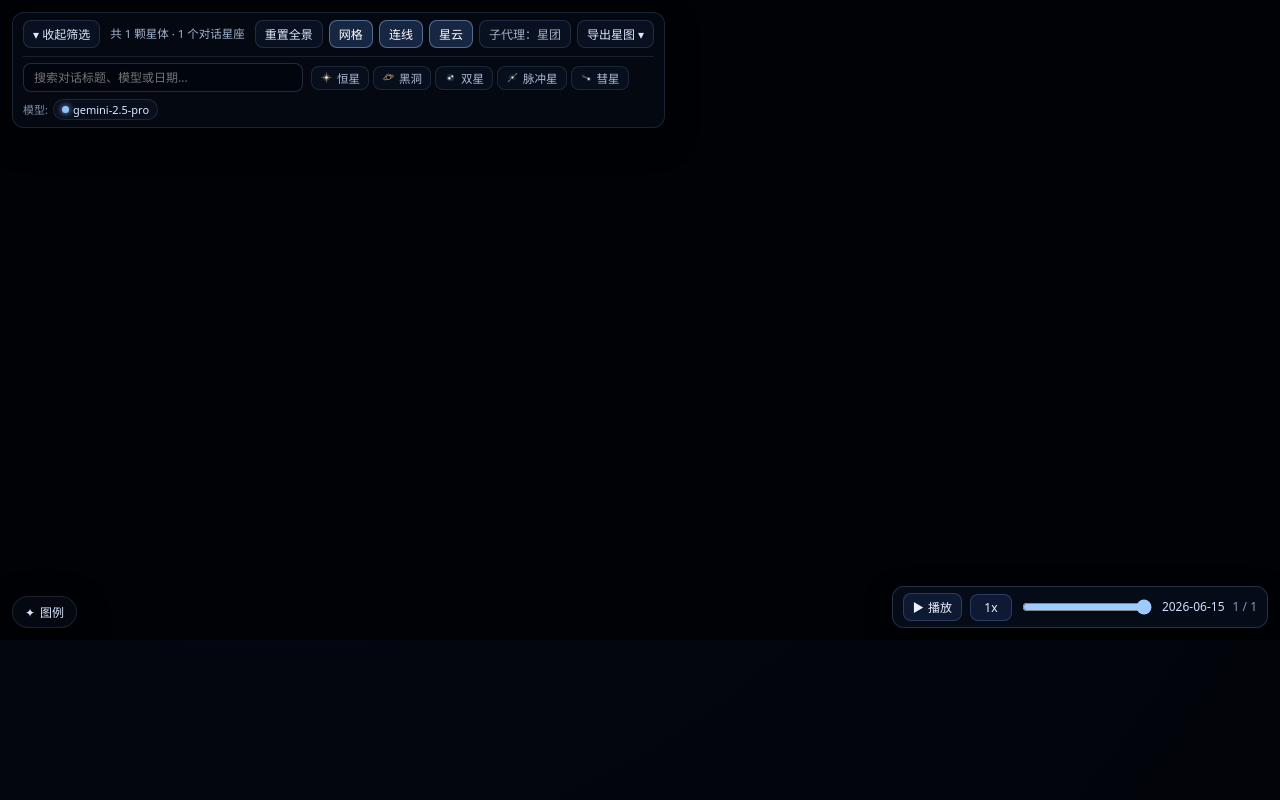
Test: SkyTab, DetailDrawer & PlaybackBar components › uses MCP export callback in host mode and opens preview modal fallback on error
Click the button "导出星图 ▾".
click(616, 34)  # box [577, 20, 654, 48]
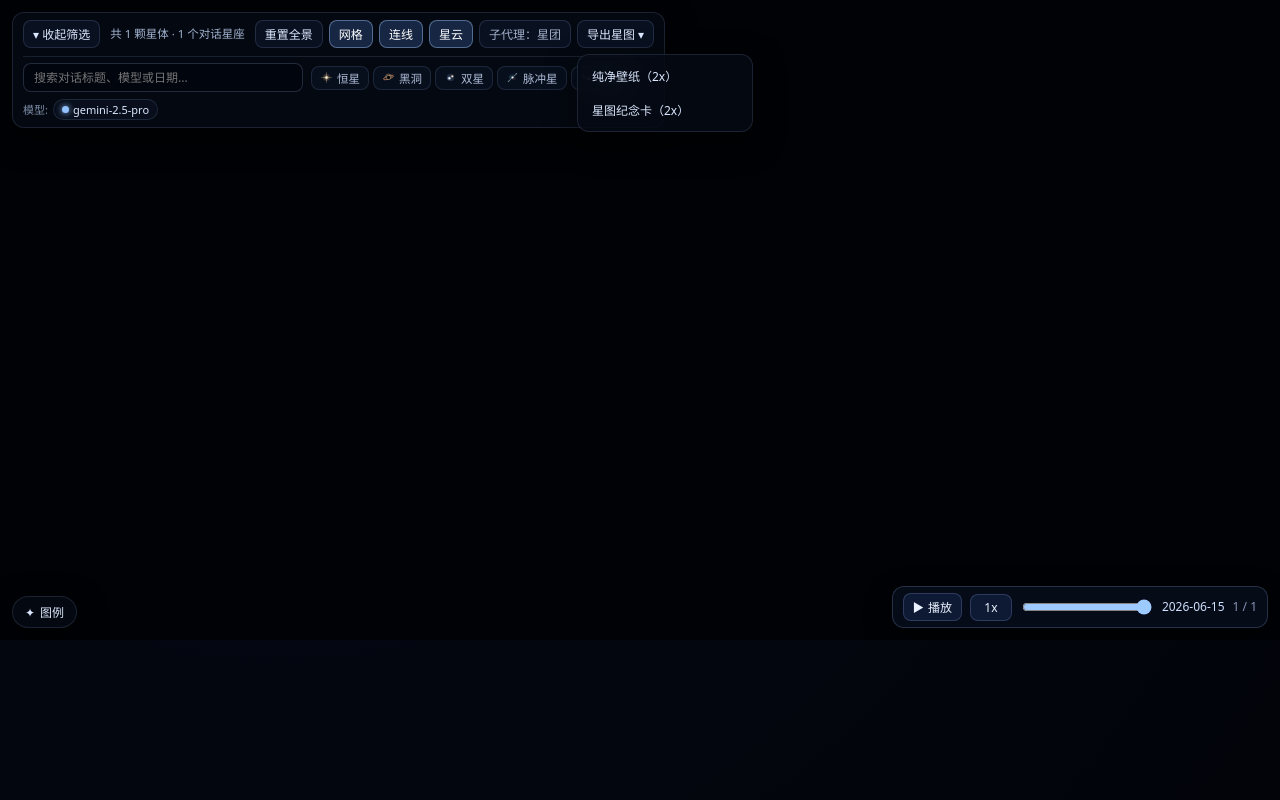
Expected: the menu item "纯净壁纸（2x）" is shown
Click the menu item "纯净壁纸（2x）".
click(665, 76)  # box [584, 61, 746, 91]
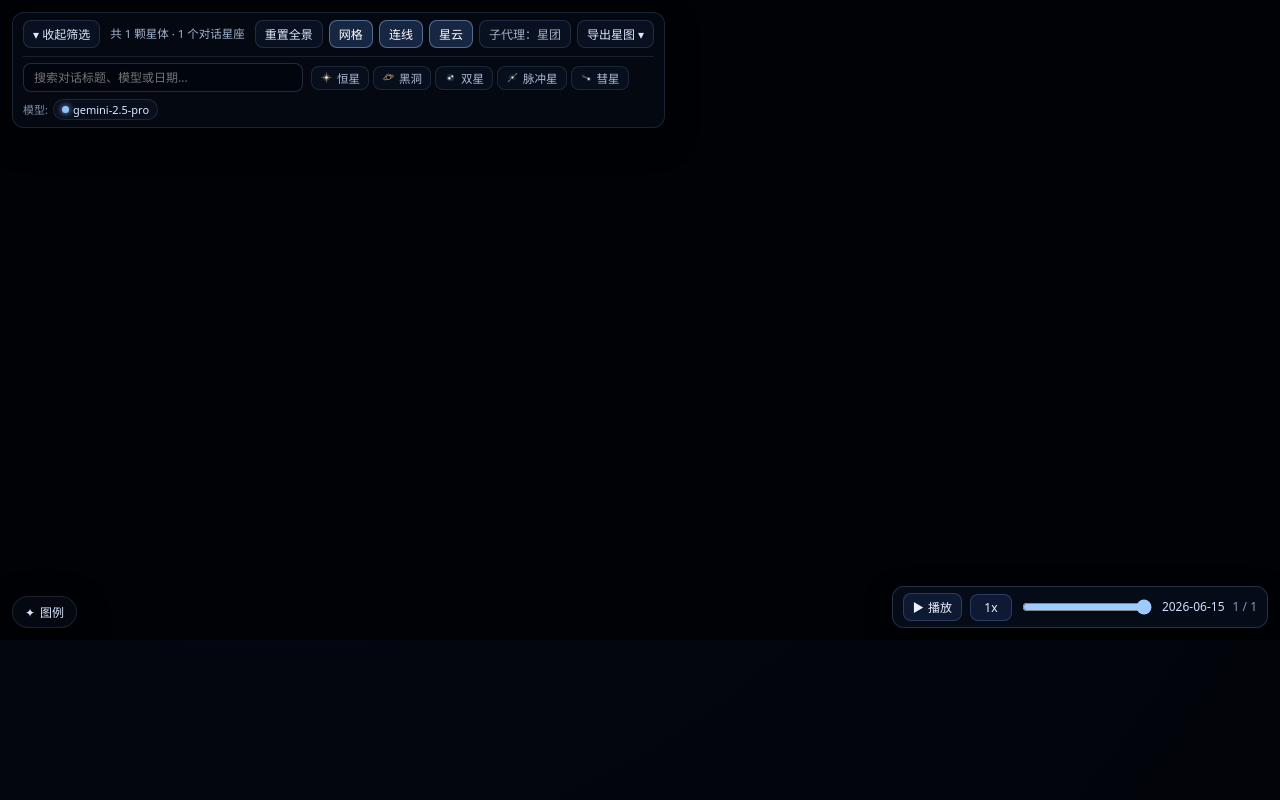
Click the button "导出星图 ▾".
click(616, 34)  # box [577, 20, 654, 48]
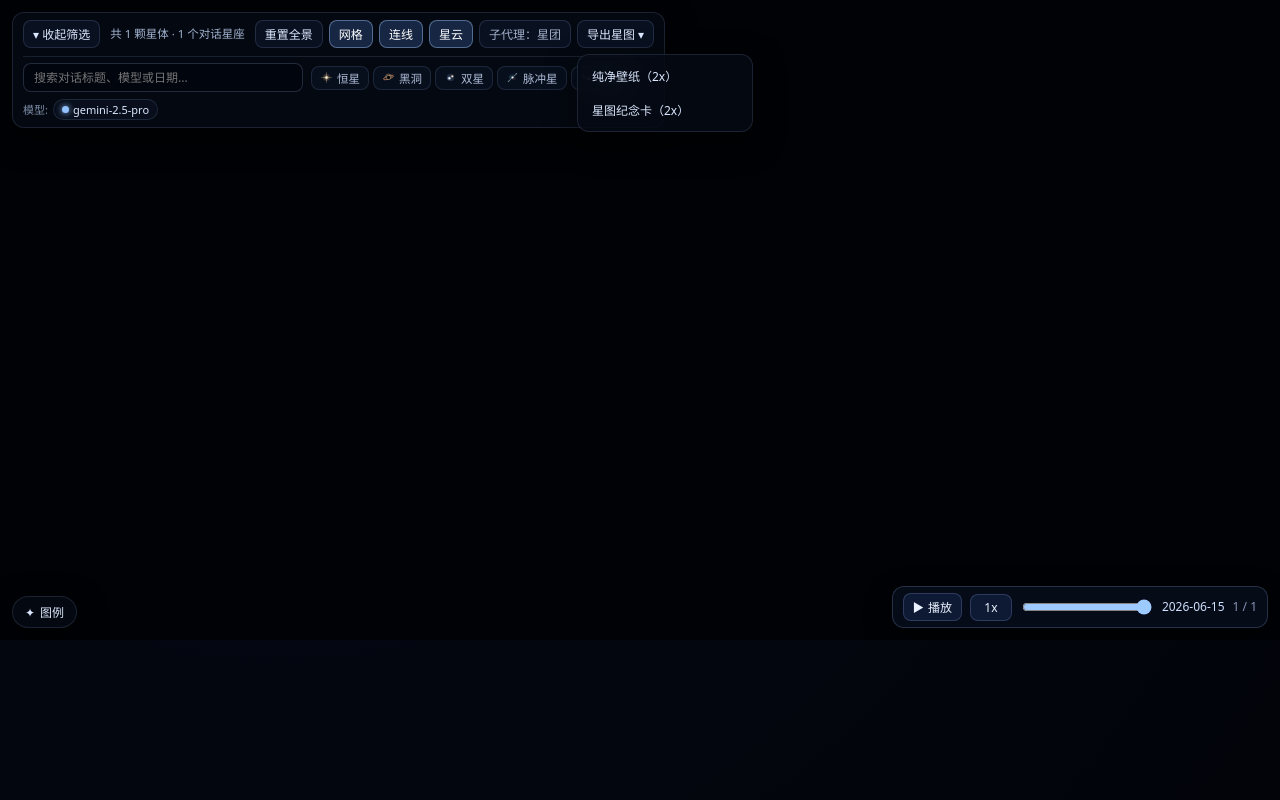
Expected: the menu item "星图纪念卡（2x）" is shown
Click the menu item "星图纪念卡（2x）".
click(665, 110)  # box [584, 95, 746, 125]
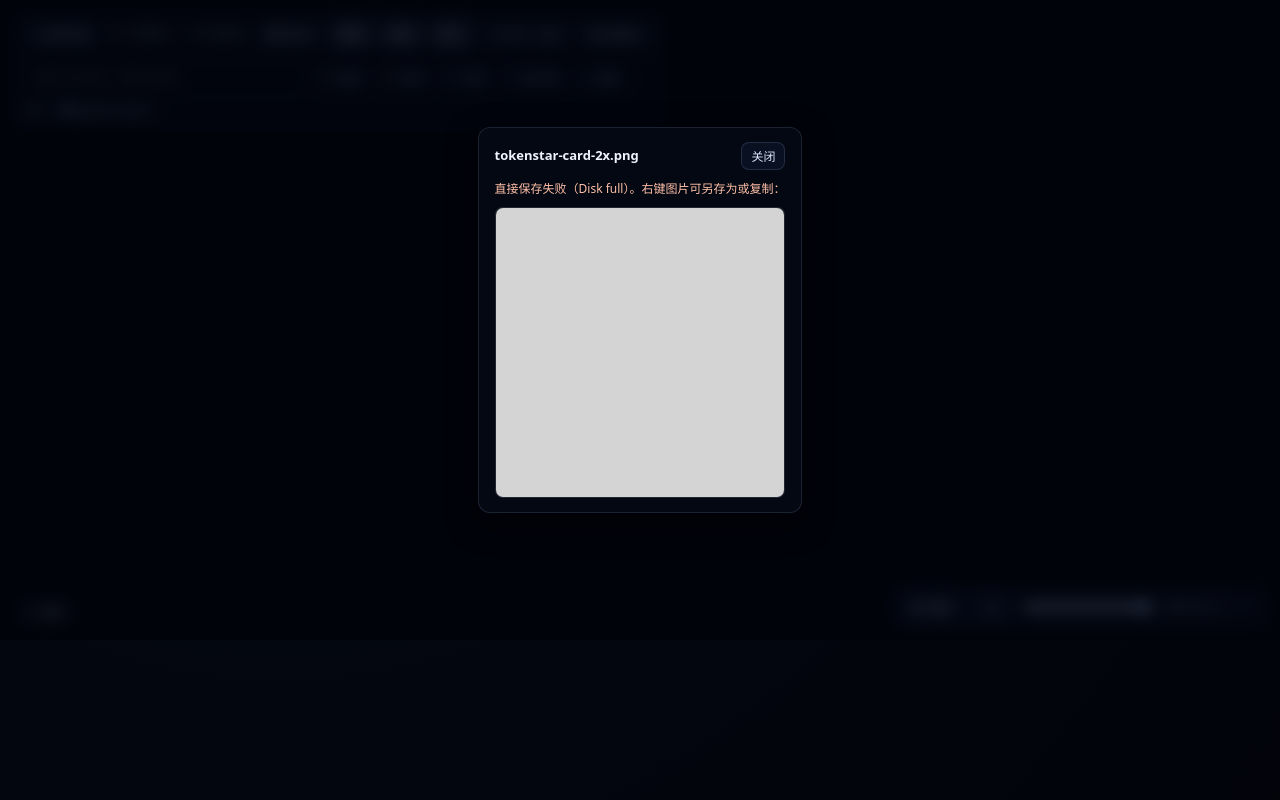
Expected: the dialog named "星图导出预览" is shown
